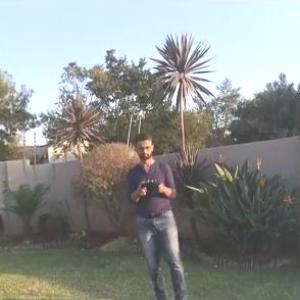follow: (125, 130, 195, 299)
